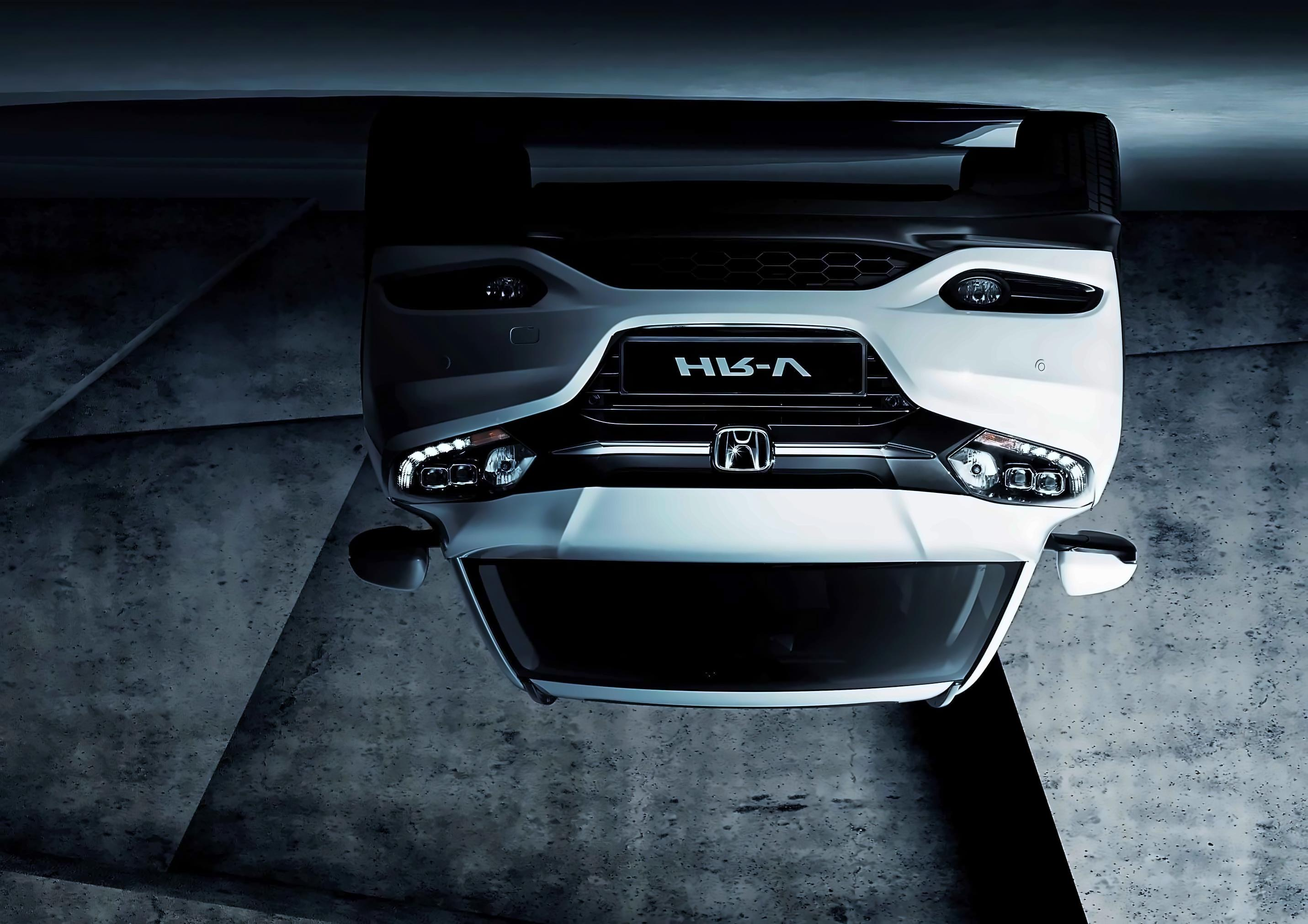Car hood: (430, 487, 1052, 576)
Front bumper: (344, 160, 1136, 433)
Headlight - -L-: (385, 420, 552, 502)
Headlight - -R-: (940, 426, 1094, 515)
Side mirror - -L-: (346, 525, 450, 598)
Side mirror - -R-: (1041, 528, 1150, 600)
